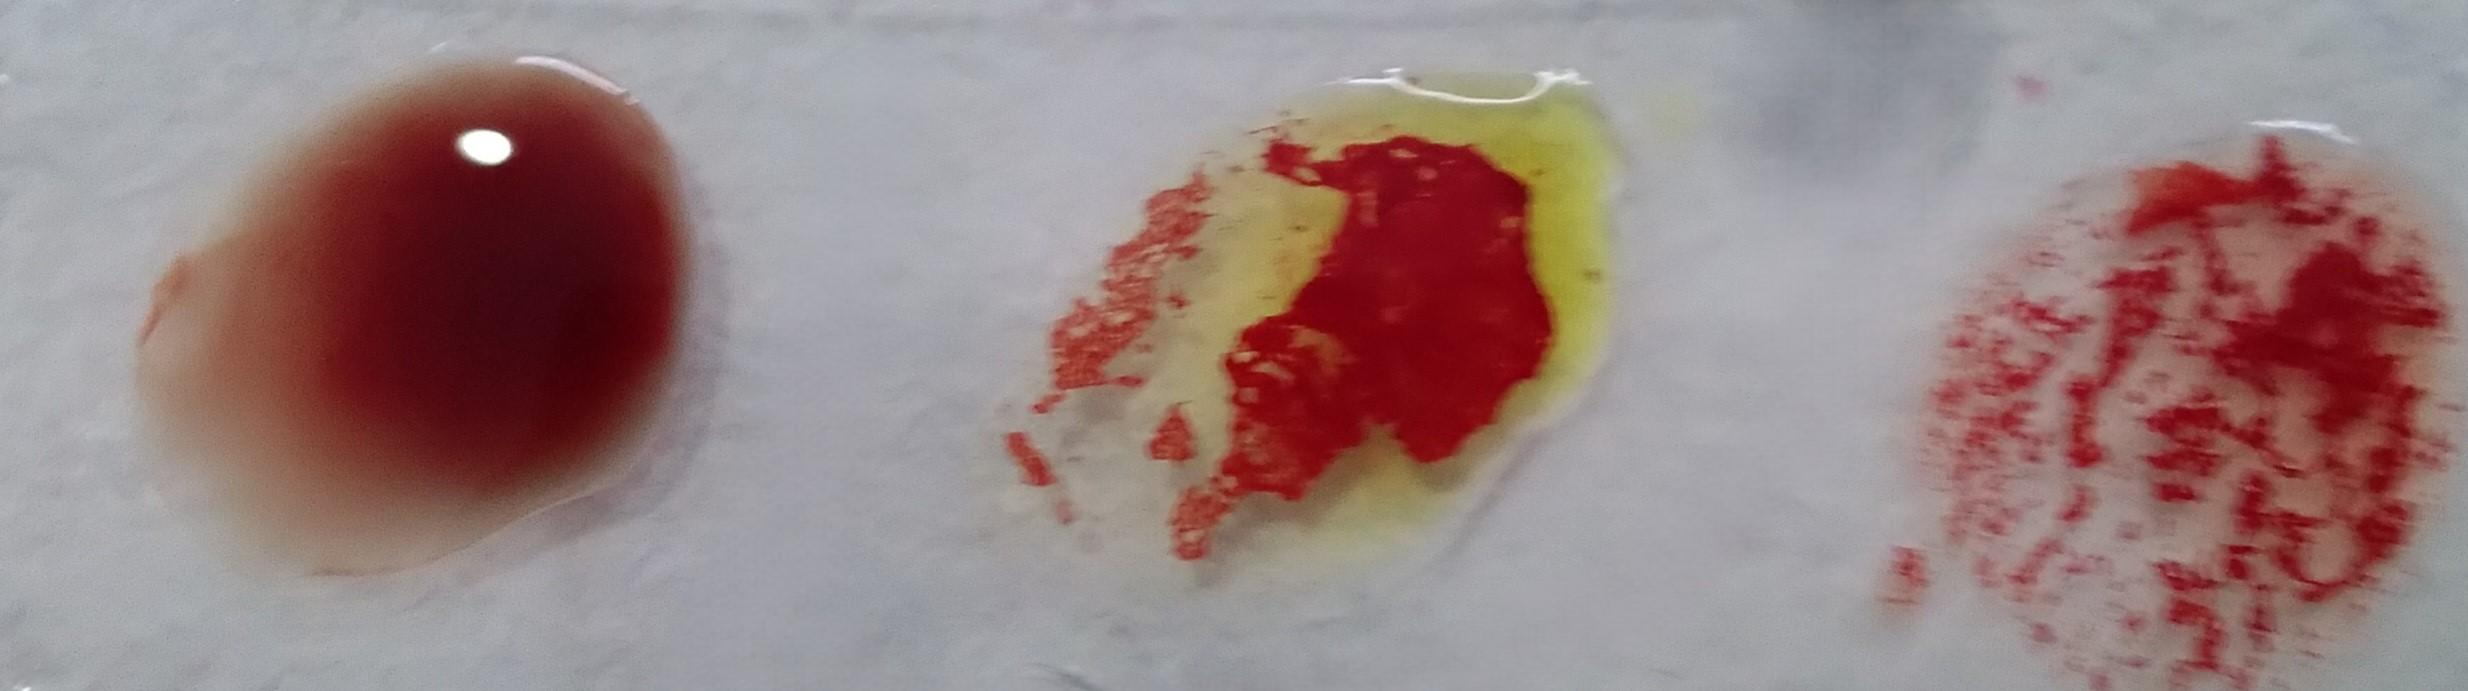B: (1010, 83, 1601, 581)
D: (1961, 113, 2459, 691)
